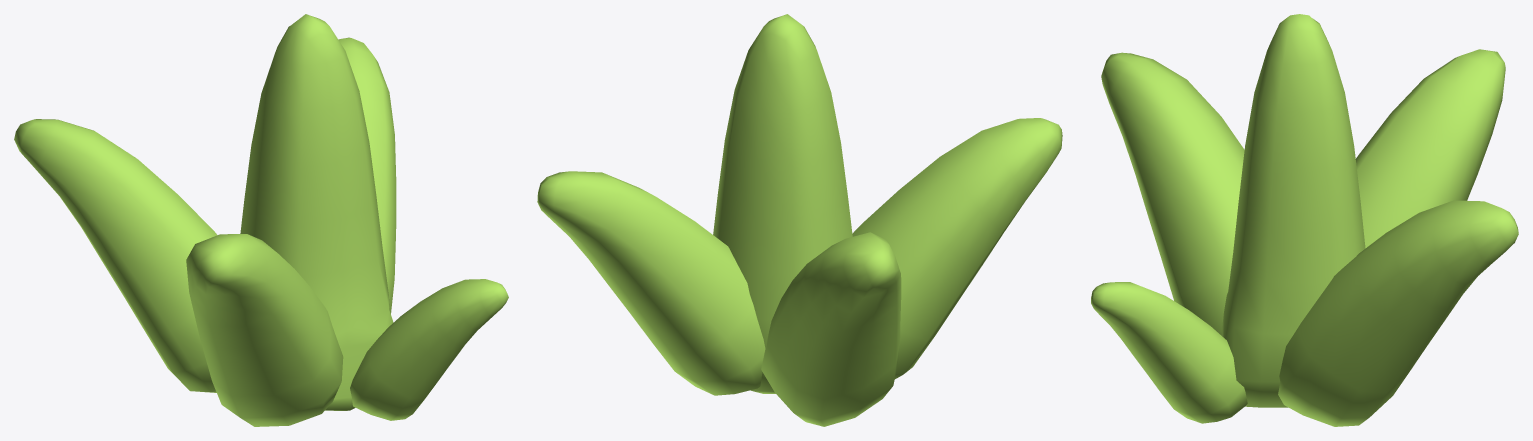
The model's file is pasto 5 hojas uv.fbx.
3 renders of one model, left to right at view 1: azimuth 30°, elevation 25°; view 2: azimuth 150°, elevation 25°; view 3: azimuth 270°, elevation 25°, orthographic. The views are drawn at different scales.
Visible parts, largest first — view 1: pasto 5 hojas; view 2: pasto 5 hojas; view 3: pasto 5 hojas.
Boxes of the visible parts, x1,y1,x2,y2 form: pasto 5 hojas: (14, 14, 508, 426); pasto 5 hojas: (537, 14, 1062, 426); pasto 5 hojas: (1091, 14, 1518, 426).
Bounding box in the file's own units: 260 × 263 × 265.
